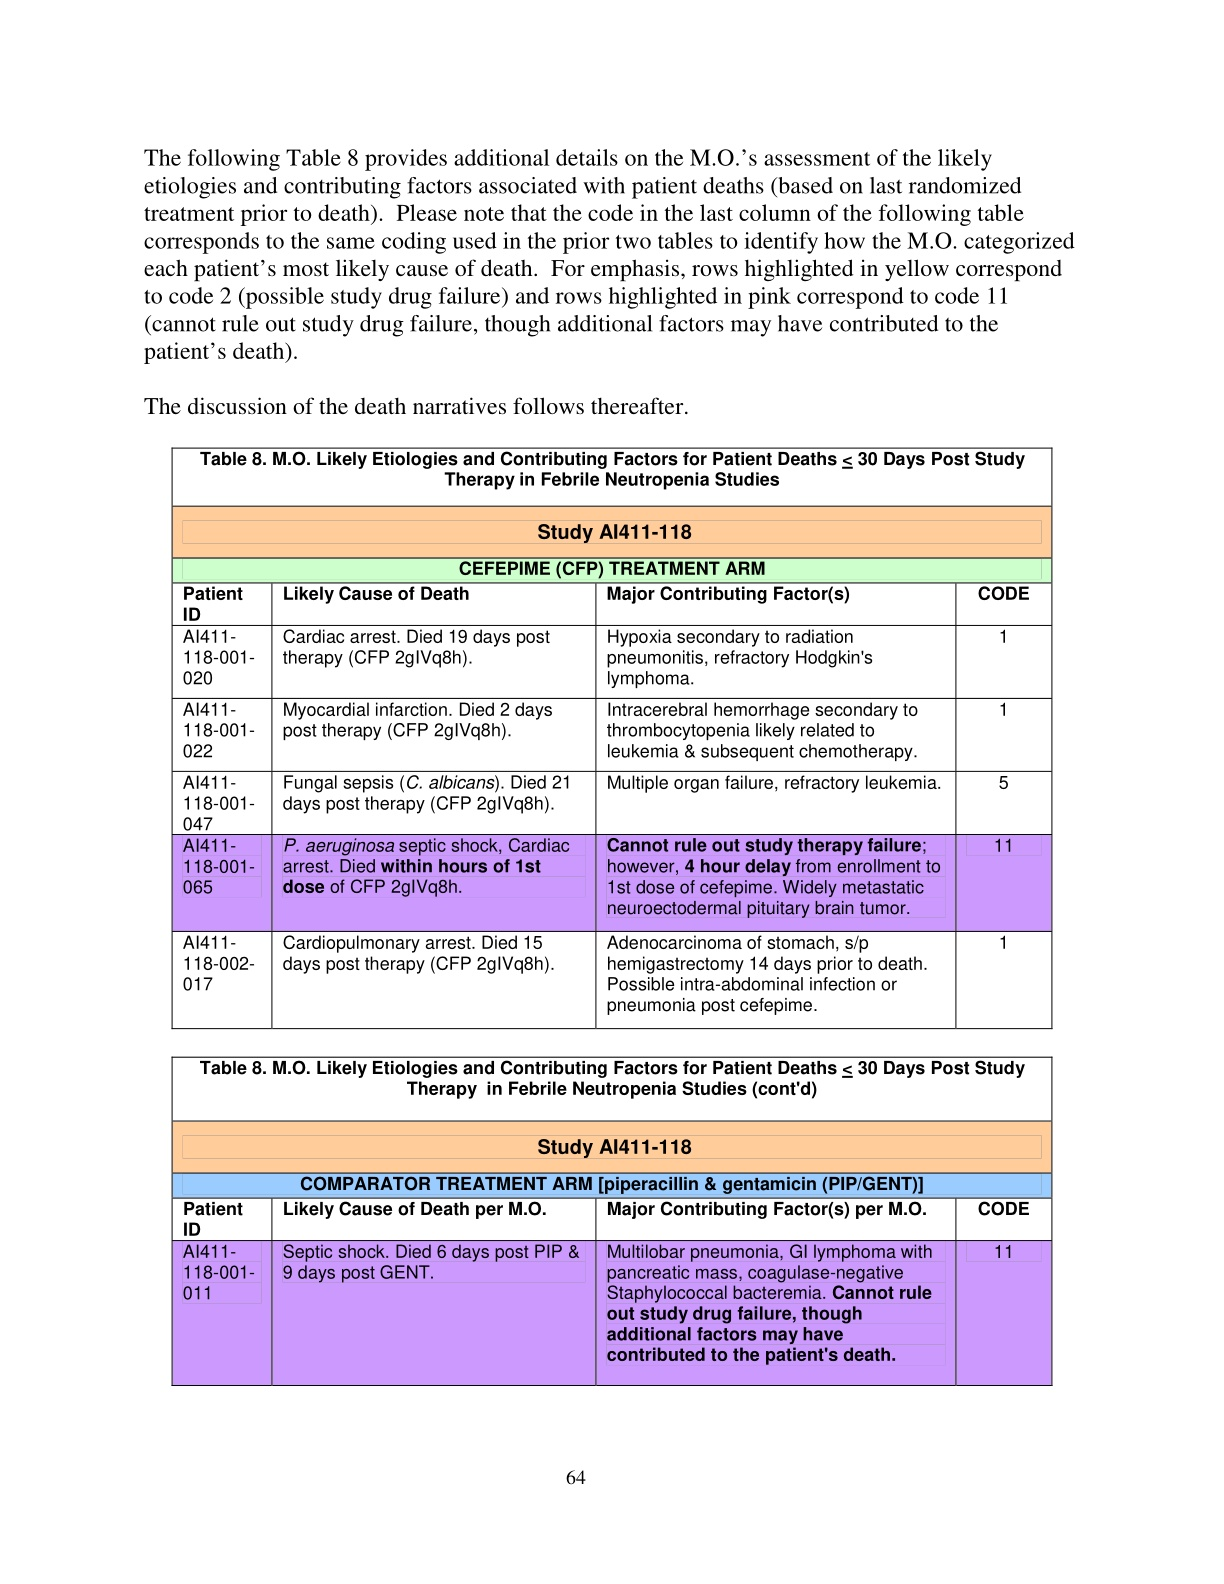merged_cells: (171, 446, 1054, 1030), (170, 1056, 1053, 1389)
